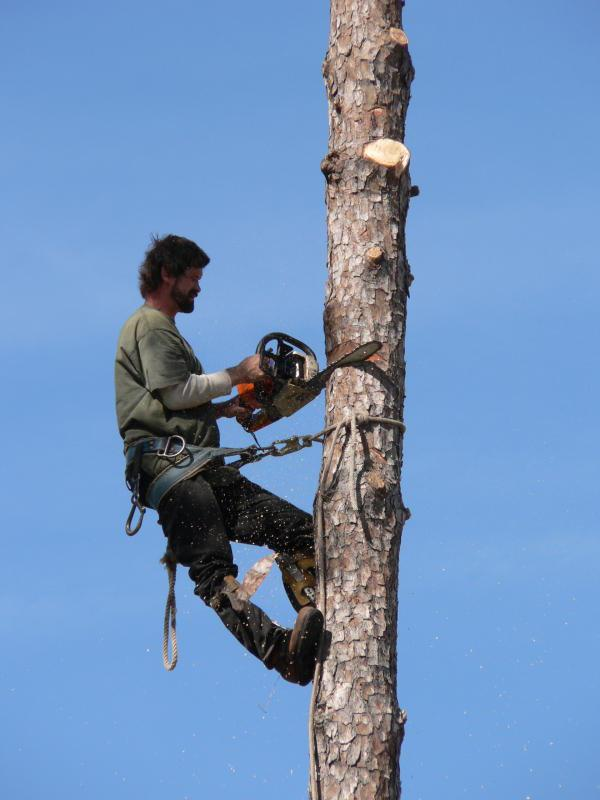person: (112, 231, 326, 687)
